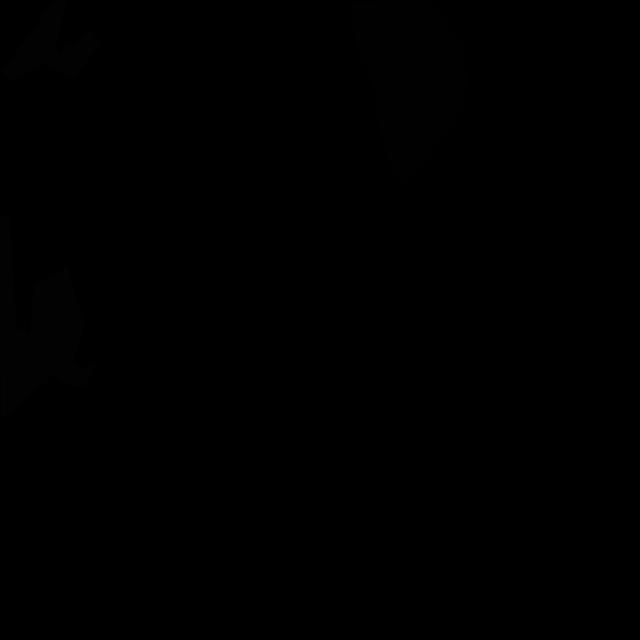cardboard: (0, 216, 96, 420), (1, 0, 100, 81)
rigid_plastic: (348, 0, 468, 190)
